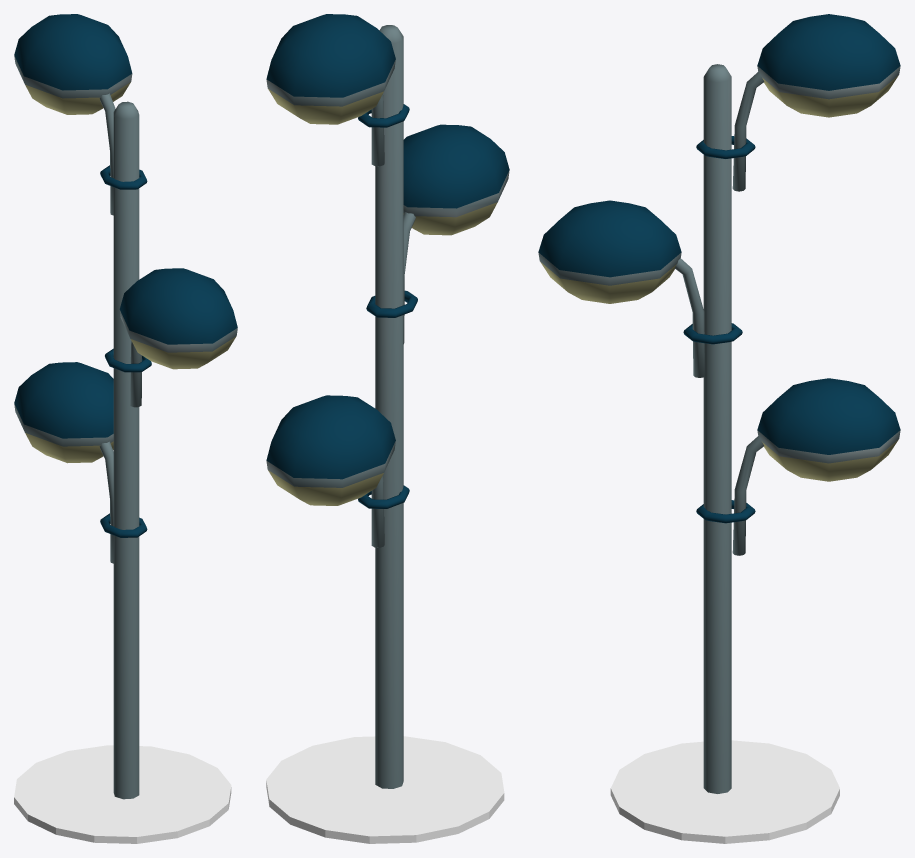
The model's file is LampBig.fbx.
3 views of the same model, side by side, from view 1: azimuth 30°, elevation 25°; view 2: azimuth 150°, elevation 25°; view 3: azimuth 270°, elevation 25° (orthographic). The views are drawn at different scales.
Visible parts, largest first — view 1: LampBig; view 2: LampBig; view 3: LampBig.
Part boxes in pixels (x1,y1,x2,y2): LampBig: (14, 14, 237, 843); LampBig: (266, 14, 509, 843); LampBig: (538, 14, 900, 843).
Size of the model in its own units: 43.93 by 164 by 69.4.
